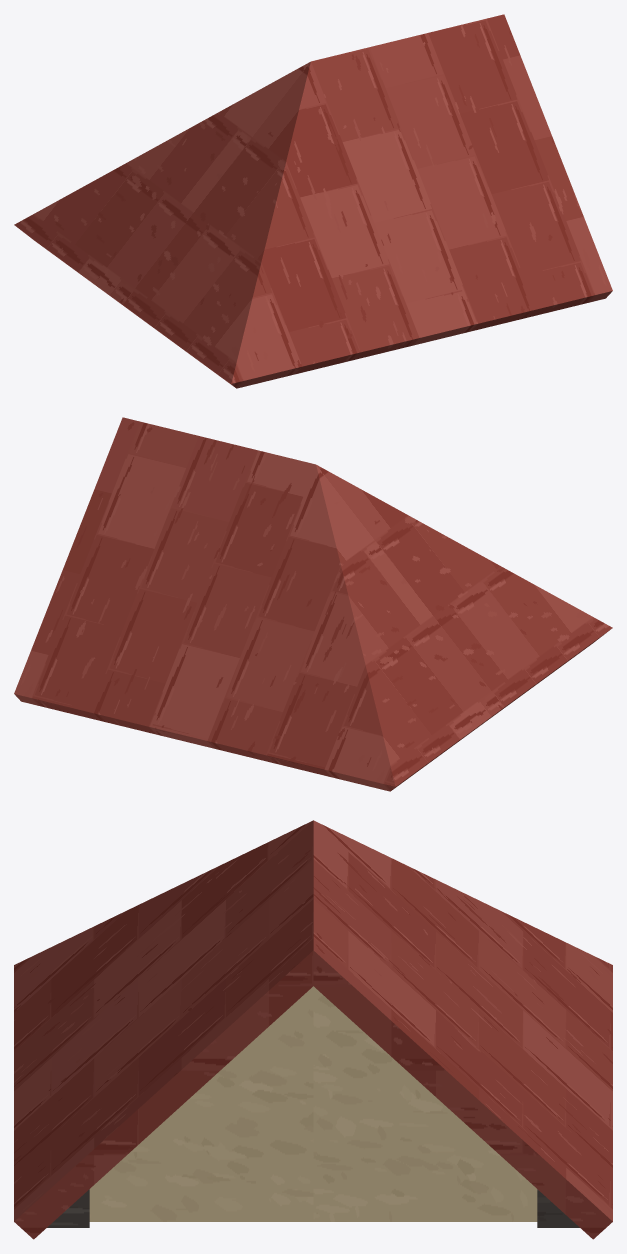
The model's file is roof-gable-end.gltf.
3 renders of one model, top to bottom at view 1: azimuth 30°, elevation 25°; view 2: azimuth 150°, elevation 25°; view 3: azimuth 270°, elevation 25°, orthographic. The views are drawn at different scales.
Visible parts, largest first — view 1: roof-gable-end; view 2: roof-gable-end; view 3: roof-gable-end.
Boxes of the visible parts, x1,y1,x2,y2 form: roof-gable-end: (14, 14, 612, 388); roof-gable-end: (14, 417, 612, 791); roof-gable-end: (14, 820, 612, 1239).
Bounding box in the file's own units: 1.09 × 0.5707 × 1.07.
3 materials, 3 textured.
